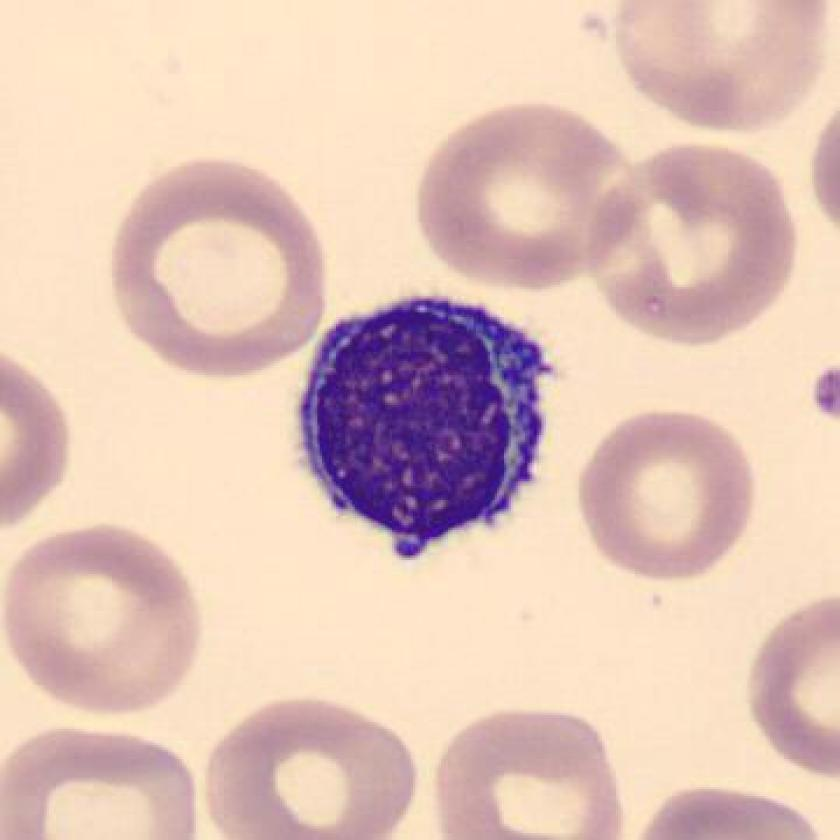lymphocyte: (286, 286, 566, 573)
